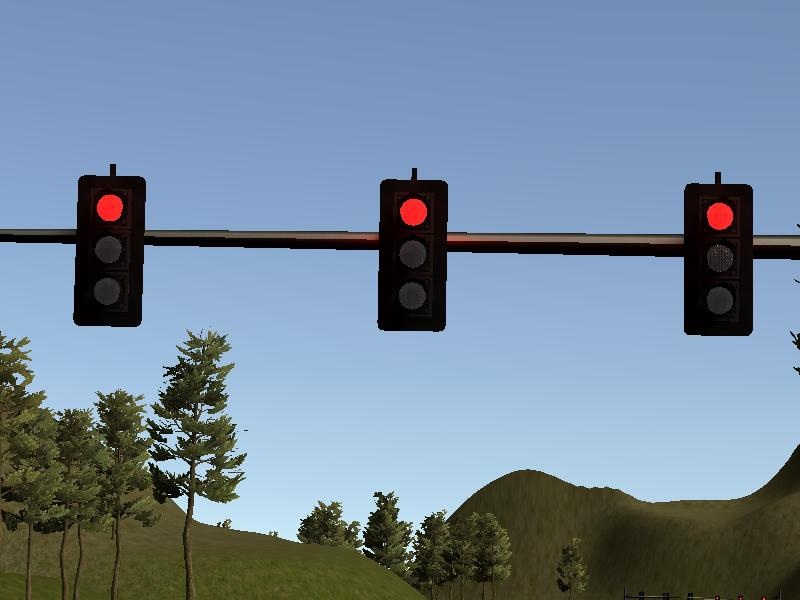Red: (72, 173, 147, 330), (375, 179, 450, 336), (681, 183, 755, 340)
